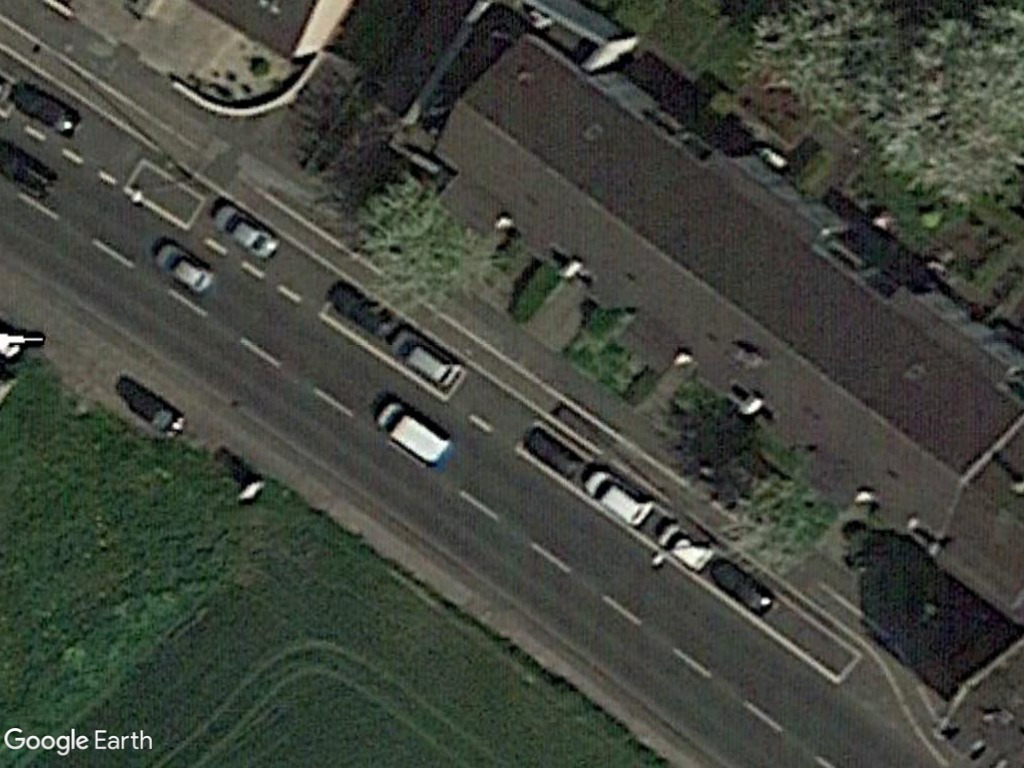car: (386, 322, 472, 399), (208, 192, 283, 271), (576, 461, 655, 534), (652, 509, 717, 581), (150, 237, 214, 298)
van: (368, 392, 455, 472)
